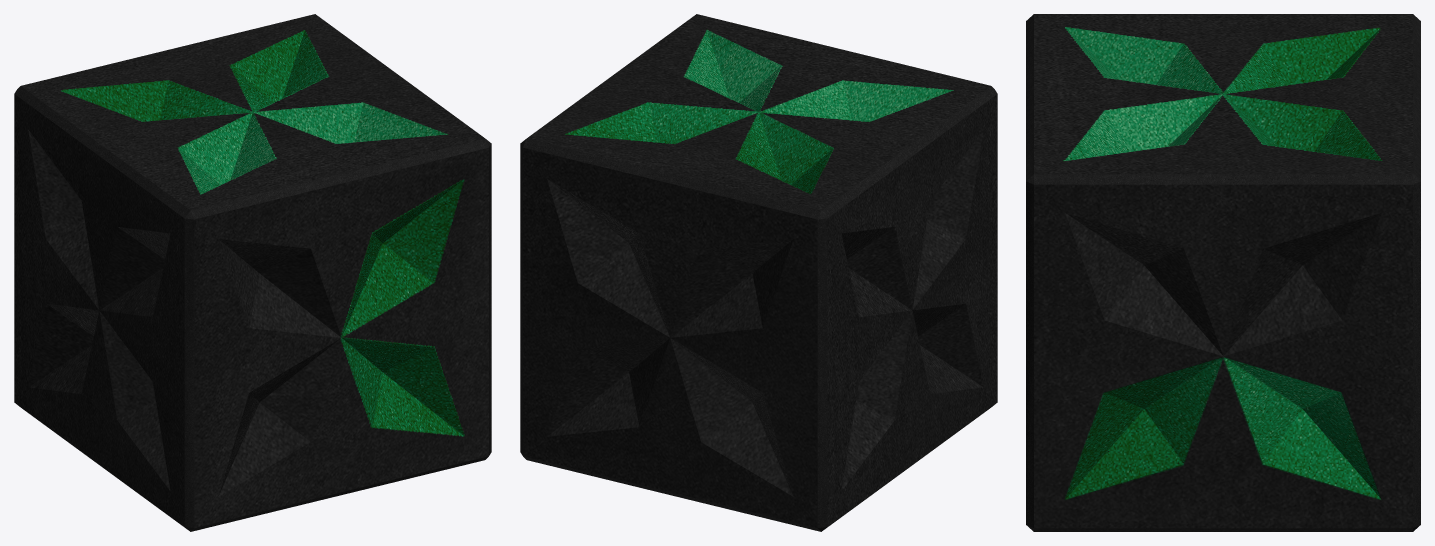
Rendered from EmeraldDV.glb.
The picture shows the model from 3 angles, left to right: view 1: azimuth 30°, elevation 25°; view 2: azimuth 150°, elevation 25°; view 3: azimuth 270°, elevation 25°; orthographic projection. The views are drawn at different scales.
Visible parts, largest first — view 1: Mesh_0; view 2: Mesh_0; view 3: Mesh_0.
Part boxes in pixels (bbox=[...]): Mesh_0: bbox=[14, 14, 491, 531]; Mesh_0: bbox=[520, 14, 997, 531]; Mesh_0: bbox=[1026, 14, 1420, 531].
Size of the model in its own units: 104 by 104 by 104.
Materials: 1 (1 with a texture image).
